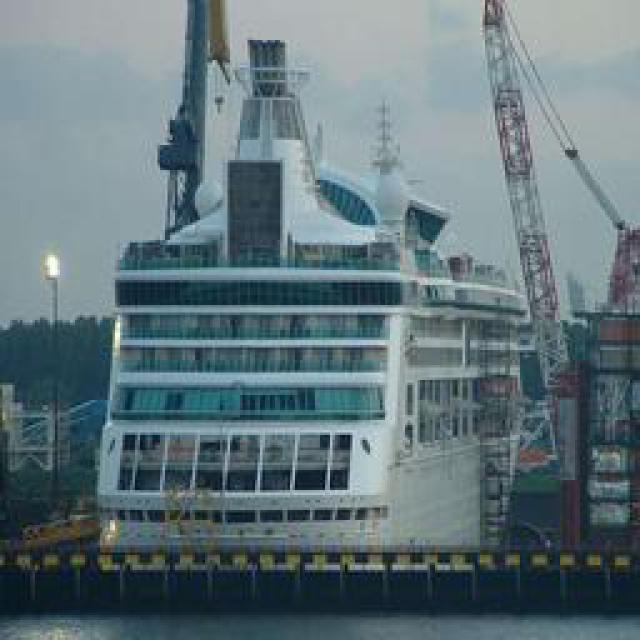Ship: (77, 10, 577, 600)
